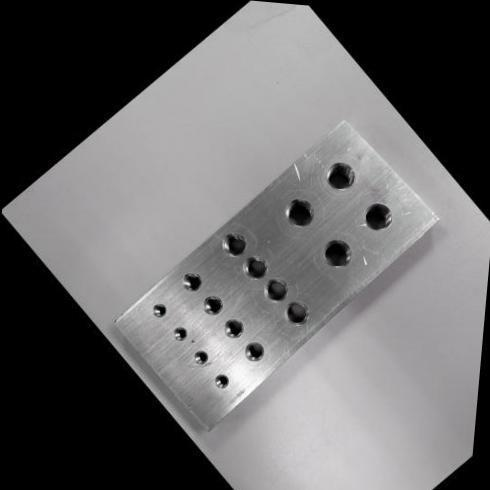hole: (312, 230, 360, 277), (276, 190, 323, 236), (318, 153, 364, 199), (356, 194, 400, 240), (255, 270, 296, 310), (276, 294, 317, 334), (234, 248, 274, 288), (215, 224, 254, 264), (175, 265, 208, 298), (217, 312, 249, 345), (196, 289, 228, 321), (238, 336, 270, 367), (147, 299, 170, 322), (168, 322, 191, 344), (189, 346, 212, 368), (210, 370, 233, 392)
